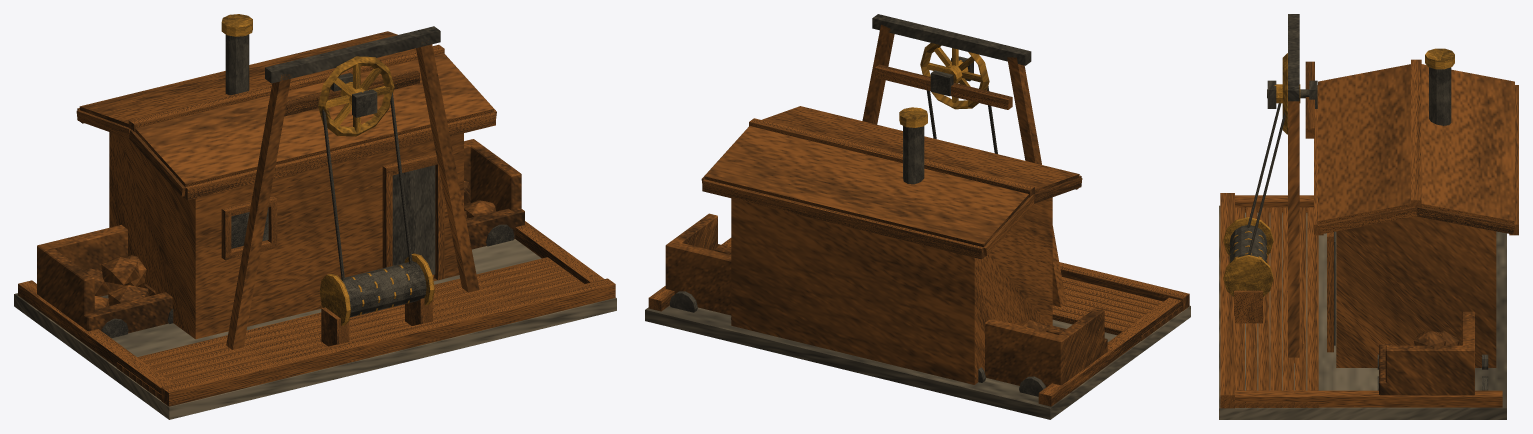
The model's file is upper-ore-cable-house.glb.
3 views of the same model, side by side, from view 1: azimuth 30°, elevation 25°; view 2: azimuth 150°, elevation 25°; view 3: azimuth 270°, elevation 25° (orthographic). The views are drawn at different scales.
Visible parts, largest first — view 1: upper-ore-cable-house; view 2: upper-ore-cable-house; view 3: upper-ore-cable-house.
Part boxes in pixels (bbox=[...]): upper-ore-cable-house: bbox=[14, 14, 616, 419]; upper-ore-cable-house: bbox=[645, 14, 1190, 419]; upper-ore-cable-house: bbox=[1219, 14, 1518, 419].
Bounding box in the file's own units: 9 × 5.51 × 5.62.
1 material, 1 textured.
